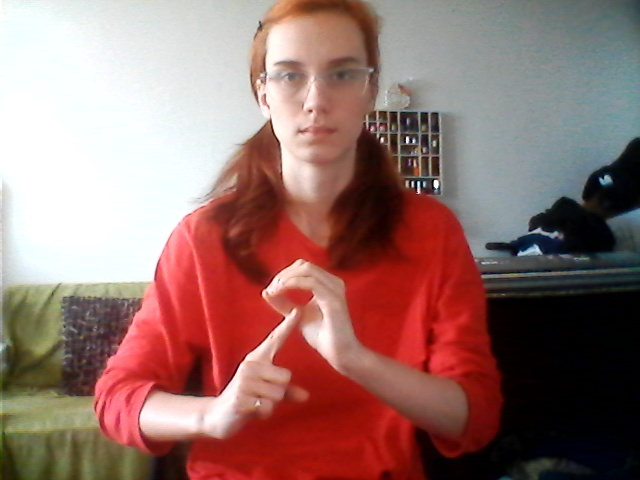q: (207, 257, 377, 453)
